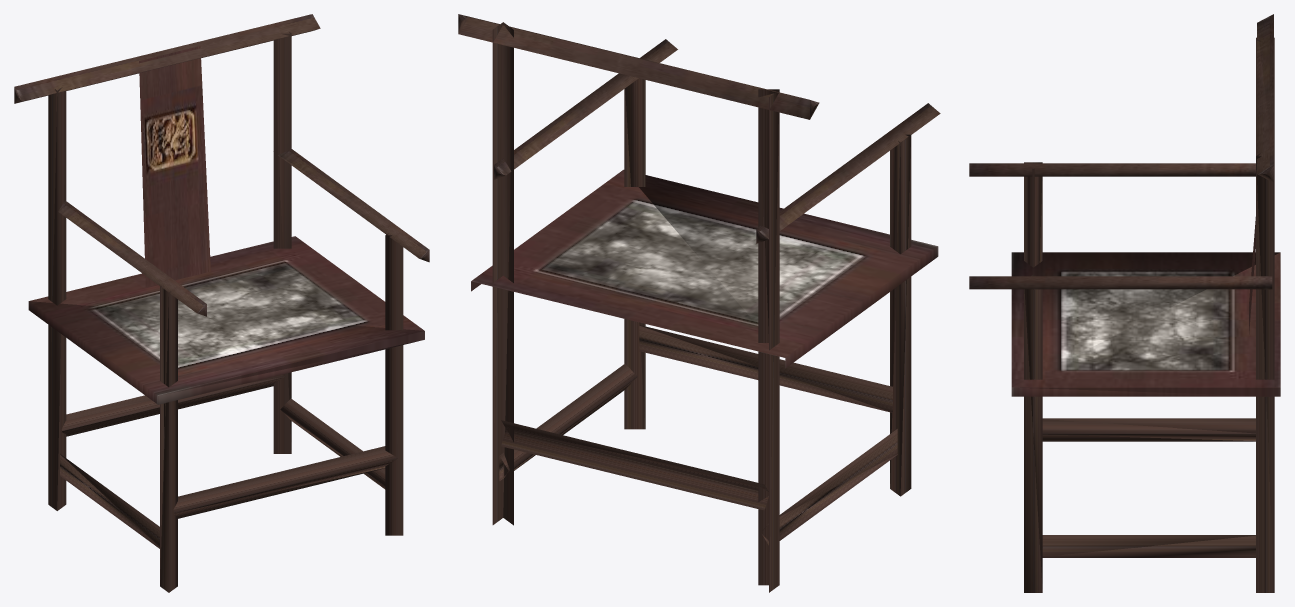
The model's file is Chair02.FBX.
3 renders of one model, left to right at view 1: azimuth 30°, elevation 25°; view 2: azimuth 150°, elevation 25°; view 3: azimuth 270°, elevation 25°, orthographic. The views are drawn at different scales.
Visible parts, largest first — view 1: Object07, Object05, Object04, Object03, Object01, Object06, Object12, Object09, Object11, Object02, Object08, Object10 (+1 smaller); view 2: Object07, Object04, Object03, Object01, Object11, Object12, Object09, Object06, Object08, Object10, Object02, sob81; view 3: Object07, Object03, Object06, Object10, sob81, Object02, Object08, Object01, Object12.
Boxes of the visible parts, x1,y1,x2,y2 form: Object07: (28, 236, 424, 404); Object05: (139, 46, 210, 287); Object04: (48, 87, 66, 510); Object03: (273, 32, 291, 453); Object01: (14, 14, 320, 103); Object06: (385, 233, 403, 535); Object12: (160, 286, 177, 592); Object09: (173, 446, 397, 518); Object11: (61, 374, 284, 436); Object02: (278, 149, 429, 262); Object08: (58, 200, 206, 316); Object10: (60, 454, 159, 548); Object07: (471, 169, 938, 368); Object04: (758, 89, 779, 592); Object03: (492, 22, 513, 525); Object01: (458, 14, 819, 119); Object11: (501, 420, 768, 510); Object12: (890, 134, 911, 496); Object09: (639, 325, 892, 412); Object06: (624, 78, 645, 429); Object08: (756, 103, 940, 243); Object10: (761, 429, 897, 545); Object02: (494, 39, 677, 179); sob81: (499, 364, 637, 481); Object07: (1011, 252, 1280, 396); Object03: (1256, 152, 1274, 592); Object06: (1024, 274, 1042, 592); Object10: (1042, 418, 1255, 441); sob81: (1042, 535, 1255, 557); Object02: (969, 276, 1272, 289); Object08: (969, 163, 1255, 176); Object01: (1257, 14, 1273, 182); Object12: (1024, 162, 1042, 267).
Size of the model in its own units: 18.56 by 25.36 by 16.15.
Materials: 3 (3 with a texture image).
